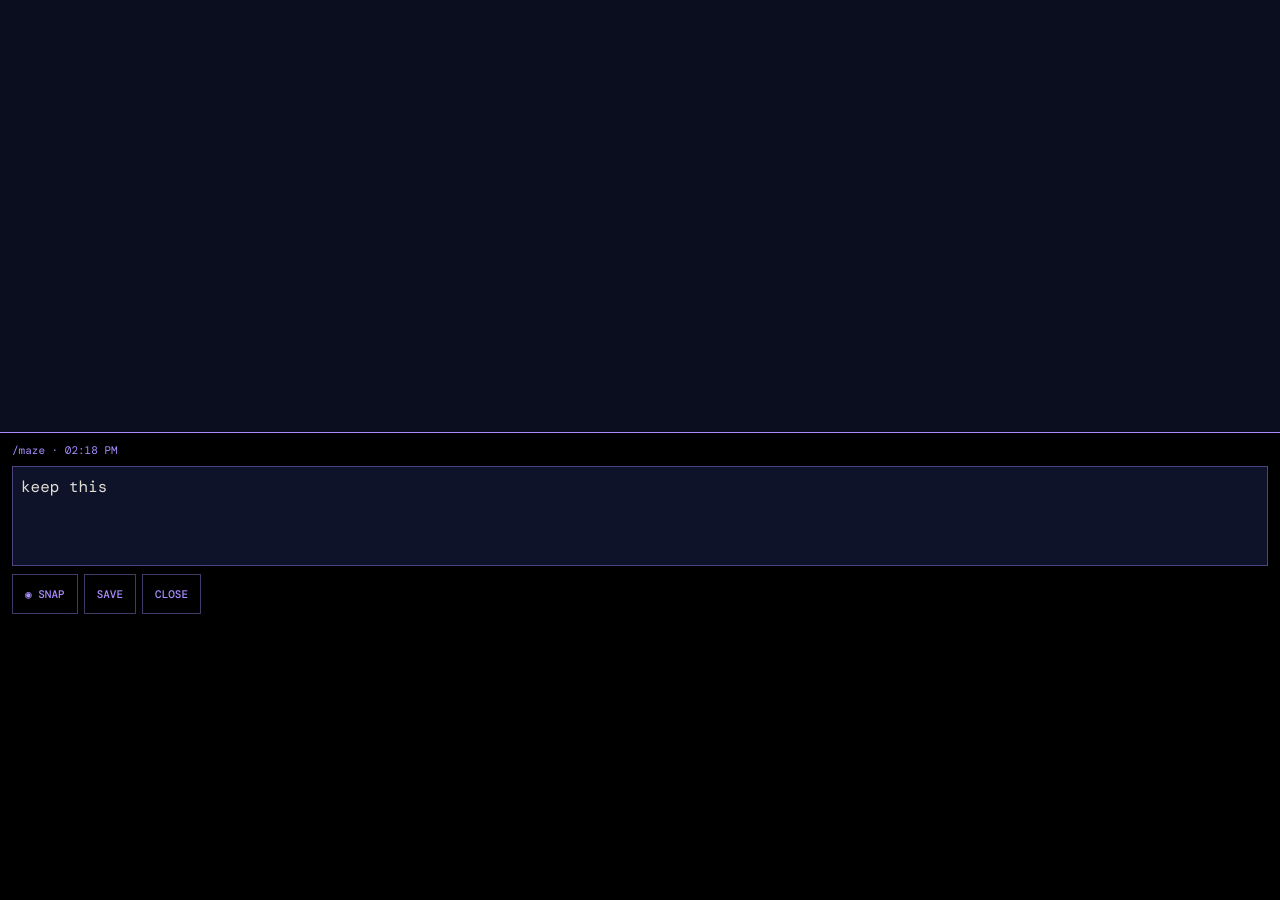
Test: notepad controls › keeps unsaved text after close and reopen and blocks game shortcuts only with focus
Earlier steps of the test are not shown.
Press ArrowRight
Press Escape
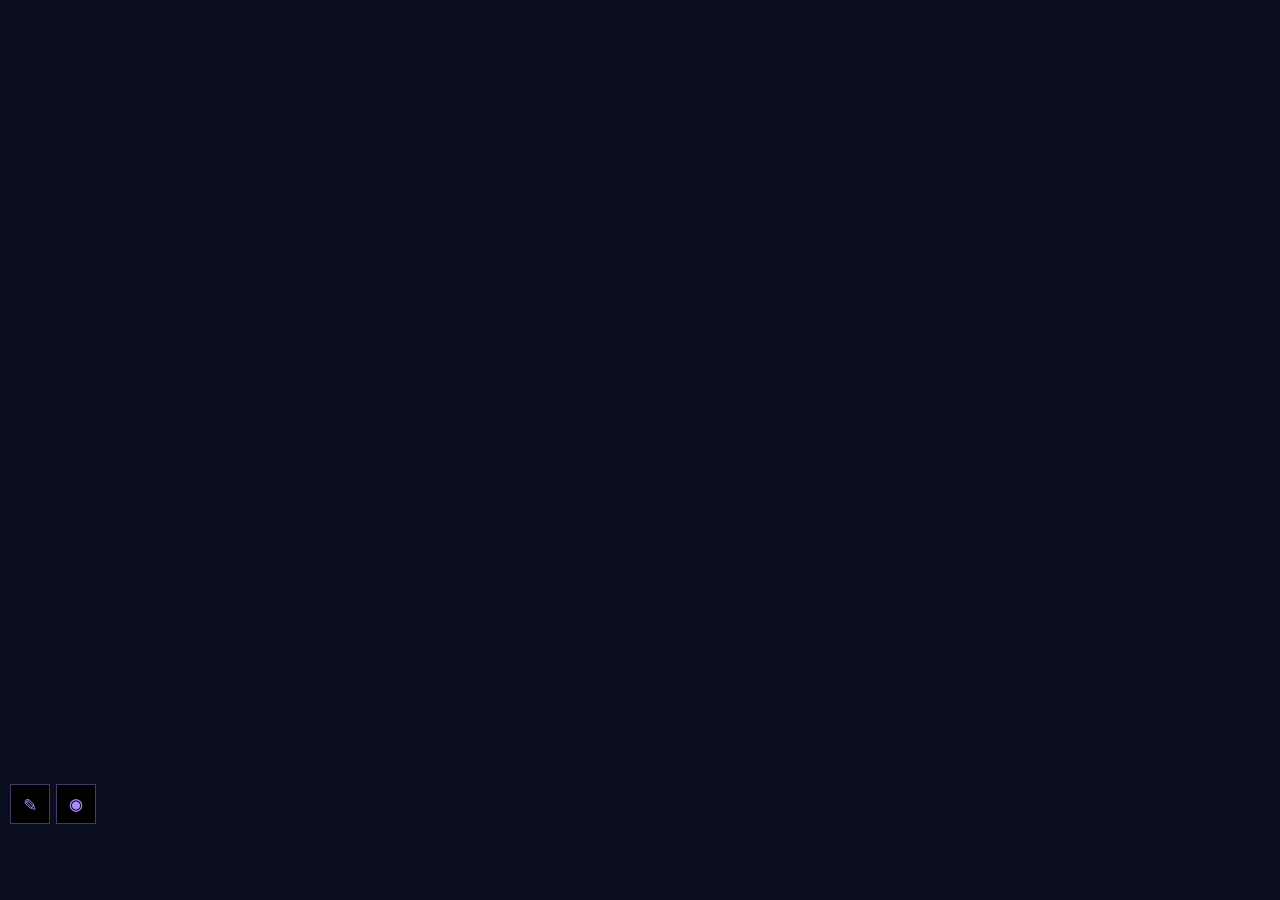
Click the button named "Open dev notepad" at (30, 804), box [10, 784, 50, 824]
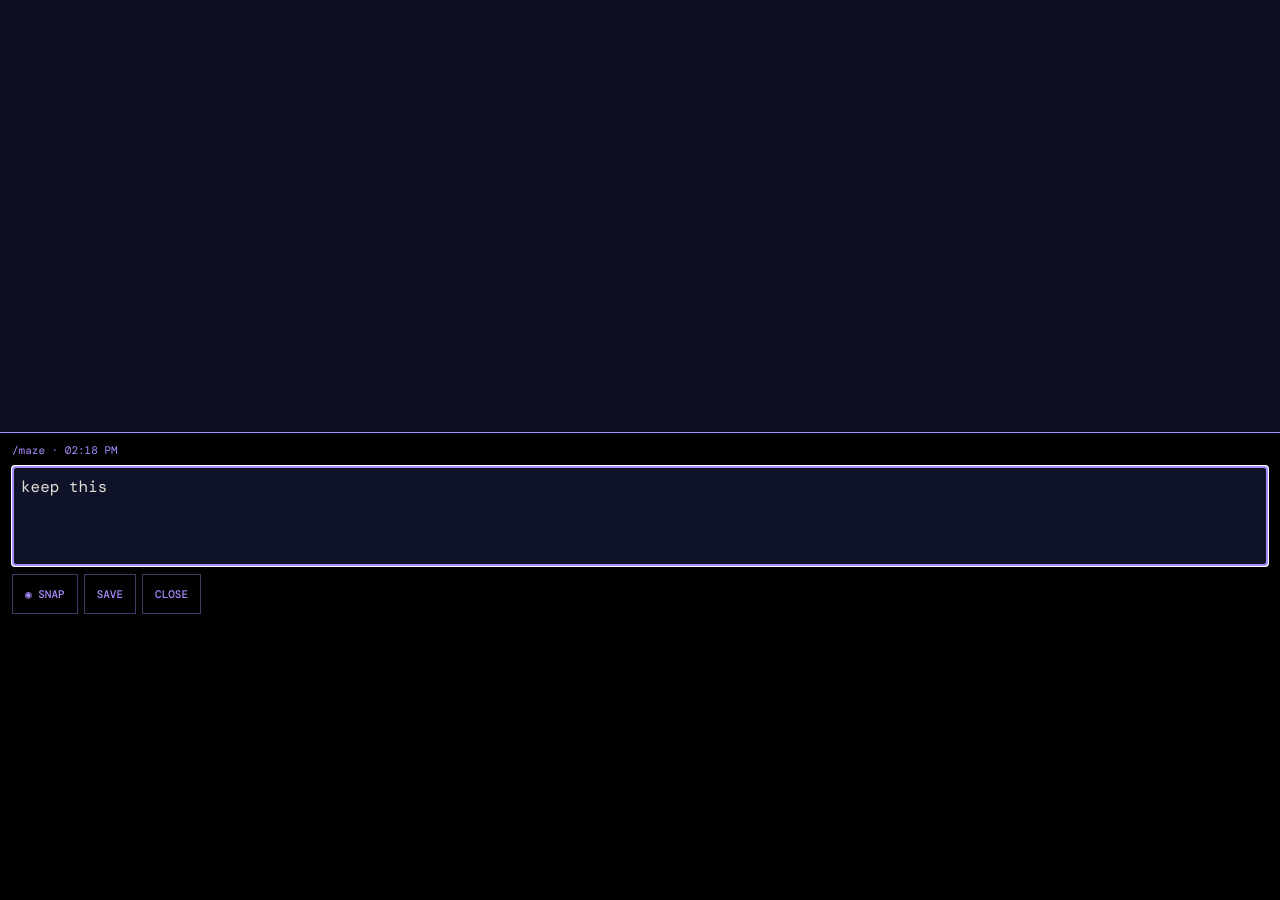
Result: the text box named "Dev note" holds "keep this" at [12, 466, 1268, 566]
